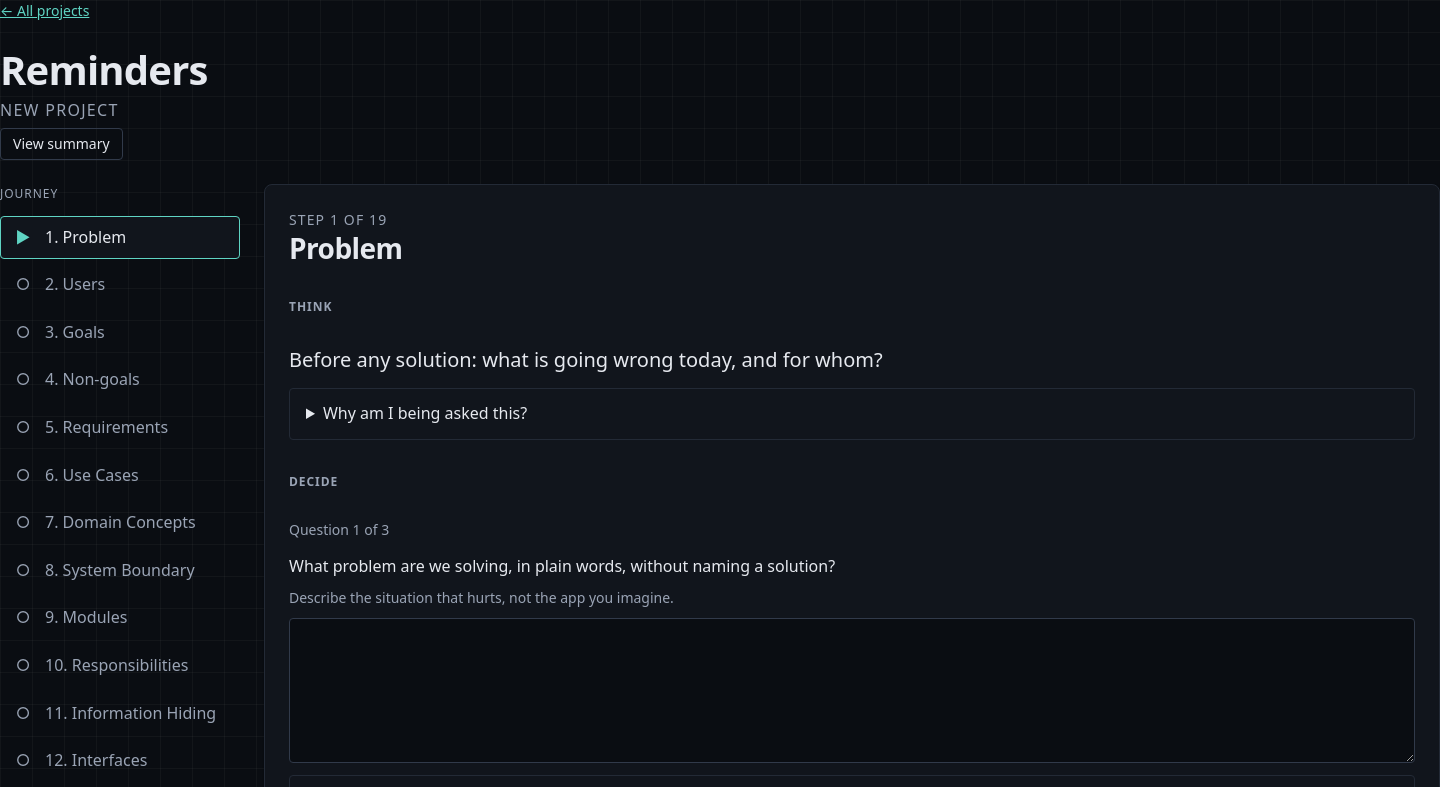
Test: WizardComponent › module details › says where to find the modules when none are listed yet
Click the button with class "rail__step" showing "○ 10. Responsibilities": (120, 666) x1=0 y1=644 x2=240 y2=688
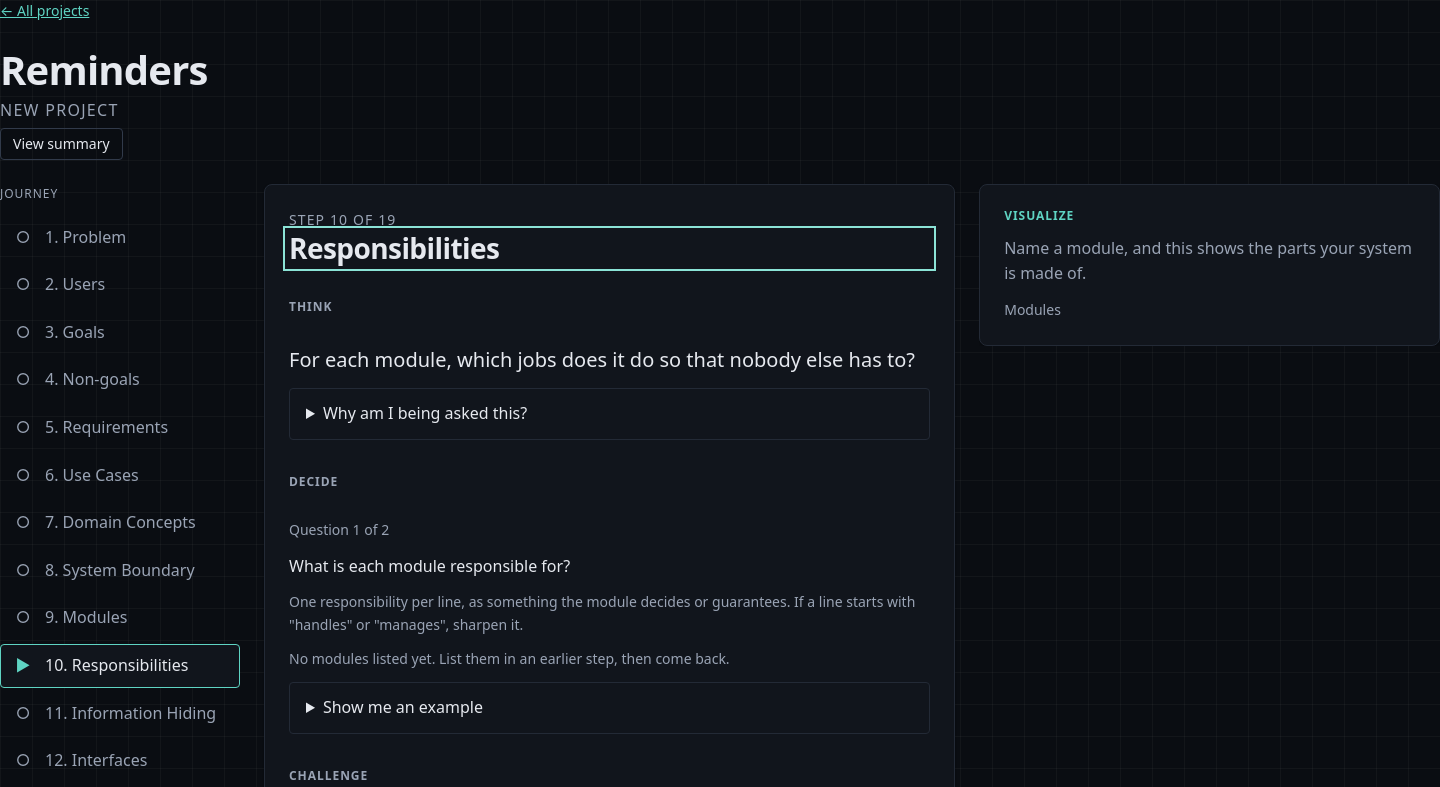
Expected: the text with class "entities__empty" shows "No modules listed yet", x1=289 y1=649 x2=730 y2=668
